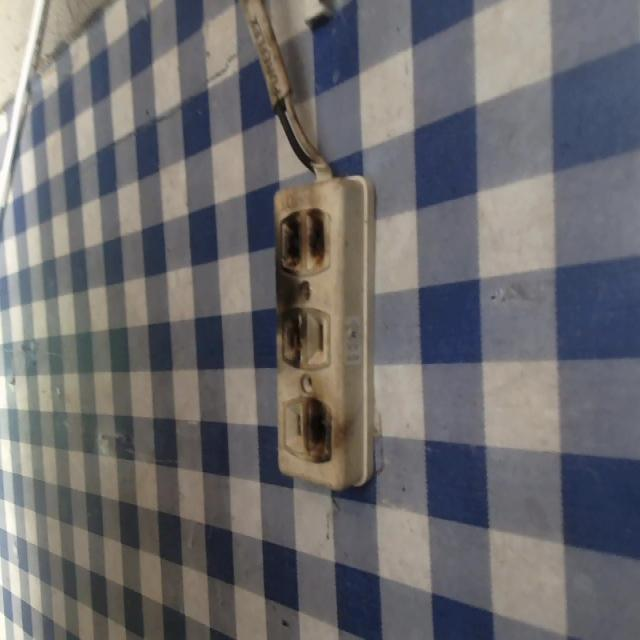-: (271, 204, 336, 284), (298, 385, 334, 472), (279, 302, 310, 370)
